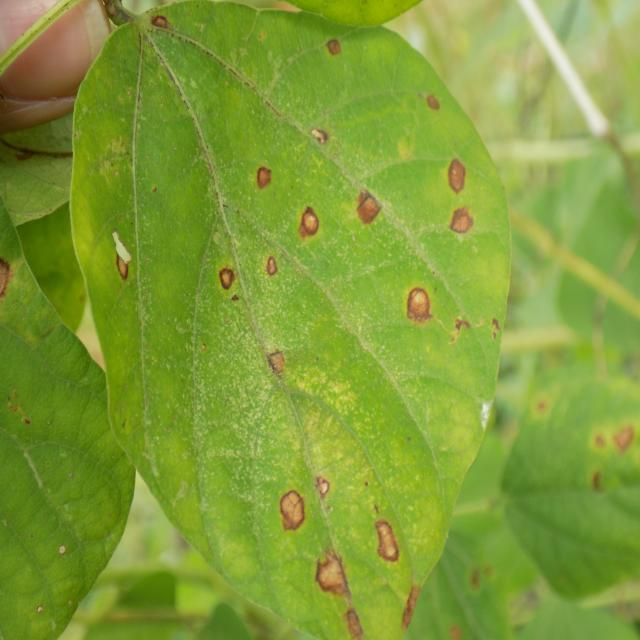Dolicos bean_cercospora leaf spot: (75, 2, 511, 640)
